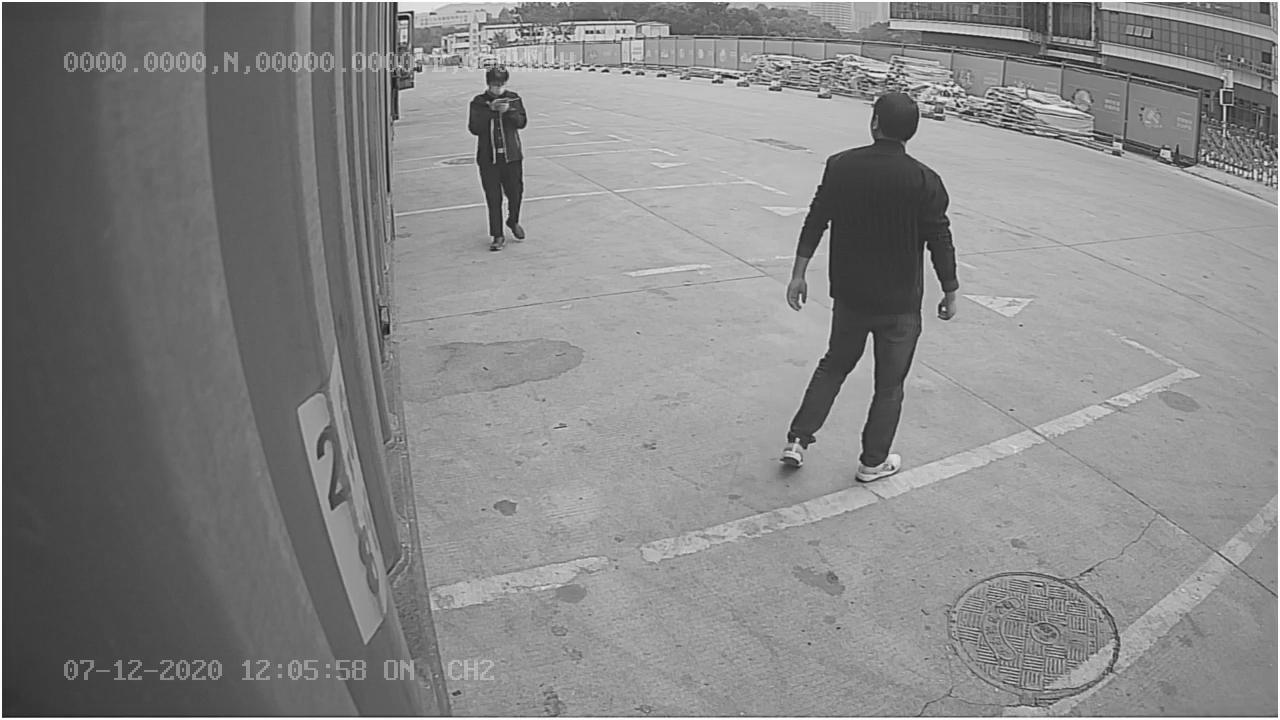person: (775, 84, 961, 482)
